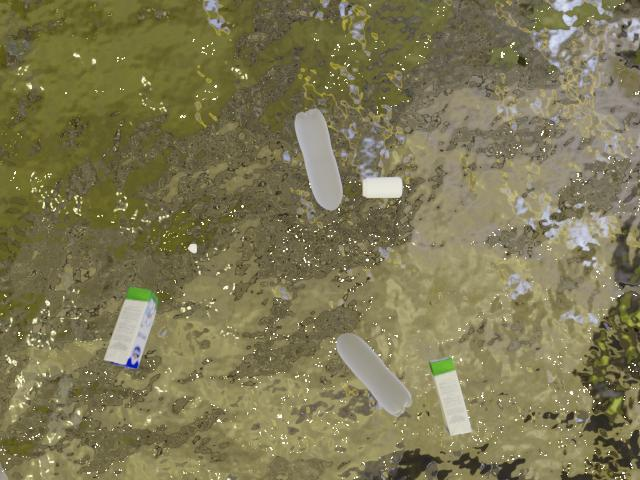Metal: (359, 169, 413, 201)
Plastic: (335, 307, 414, 421), (287, 104, 358, 216)
Trash: (98, 266, 173, 376), (427, 355, 478, 440)
